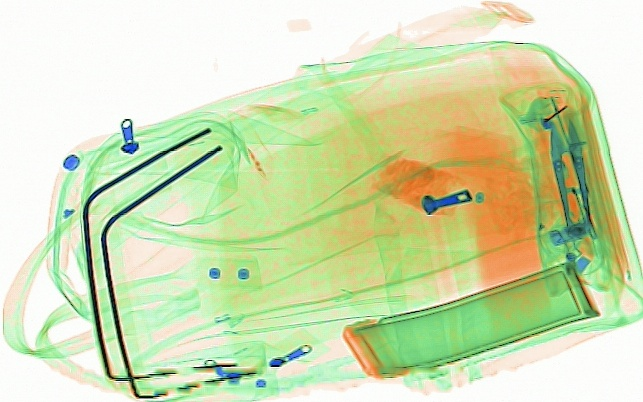scissors: (542, 116, 598, 244)
